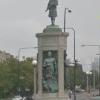Statue: (33, 1, 71, 45)
